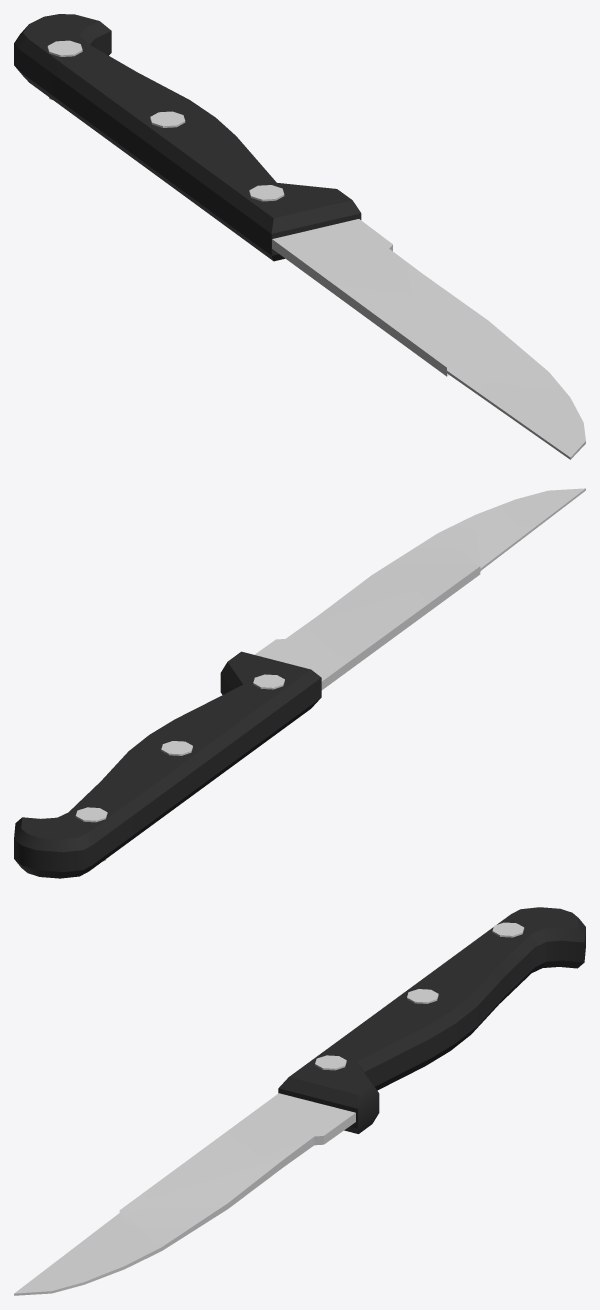
The model's file is SteakKnife_01.fbx.
3 views of the same model, one above another, from view 1: azimuth 30°, elevation 25°; view 2: azimuth 150°, elevation 25°; view 3: azimuth 330°, elevation 25° (orthographic). The views are drawn at different scales.
Parts seen in each view (by area): view 1: SteakKnife_01; view 2: SteakKnife_01; view 3: SteakKnife_01.
Part boxes in pixels (x1=…): SteakKnife_01: x1=14, y1=14, x2=585, y2=459; SteakKnife_01: x1=14, y1=488, x2=585, y2=878; SteakKnife_01: x1=14, y1=907, x2=585, y2=1295.
Bounding box in the file's own units: 0.0203 × 0.0103 × 0.2249.
